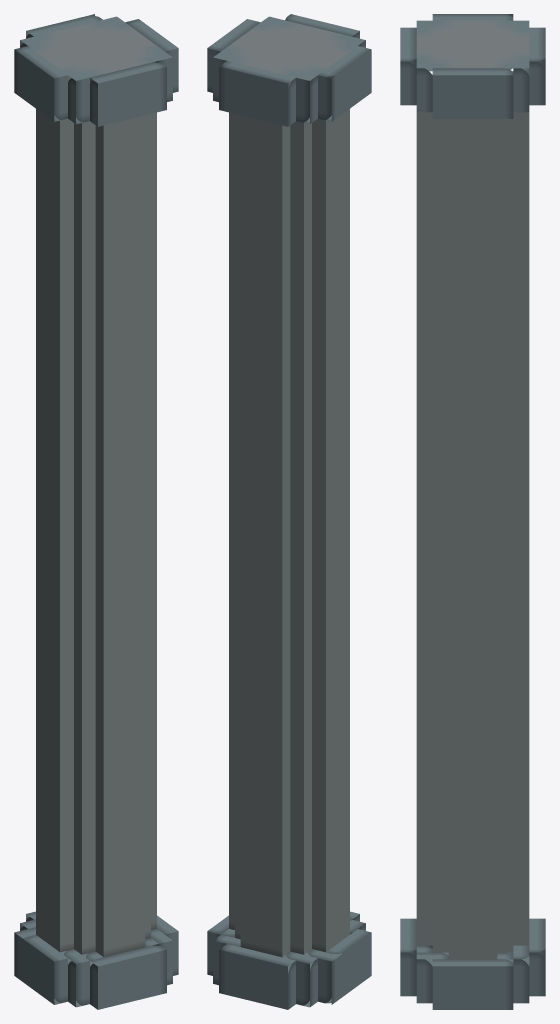
The model's file is RURA_DLUGA_GURA.dae.
The picture shows the model from 3 angles, left to right: view 1: azimuth 30°, elevation 25°; view 2: azimuth 150°, elevation 25°; view 3: azimuth 270°, elevation 25°; orthographic projection.
Parts seen in each view (by area): view 1: Content; view 2: Content; view 3: Content.
Boxes of the visible parts, left/top/right/bottom form: Content: left=14, top=14, right=178, bottom=1009; Content: left=207, top=14, right=371, bottom=1009; Content: left=400, top=14, right=545, bottom=1009.
Bounding box in the file's own units: 9 × 64 × 9.
1 material, 1 textured.
